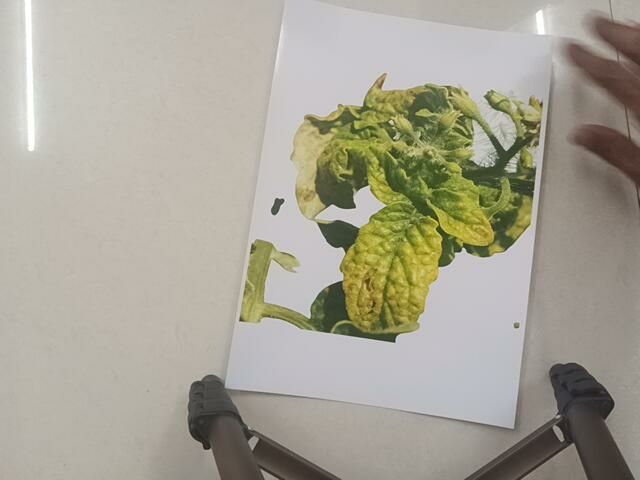Tomamto_Leaf_curl_virus: (241, 55, 530, 341)
